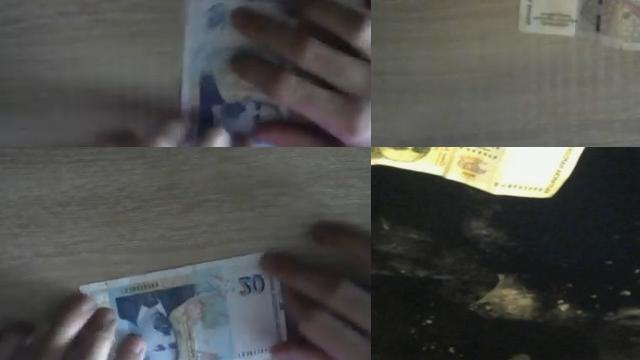10leva: (371, 147, 587, 198)
20leva: (83, 253, 291, 360), (179, 0, 281, 139)
